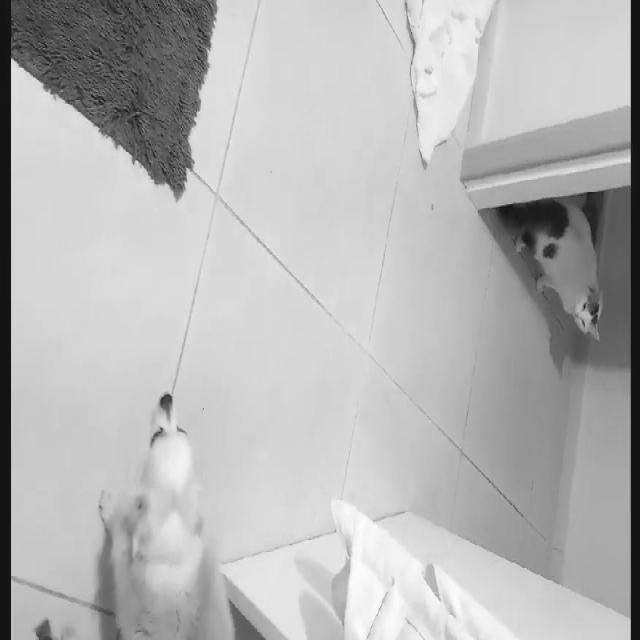Simba: (484, 185, 621, 382)
Theo: (96, 382, 268, 638)
